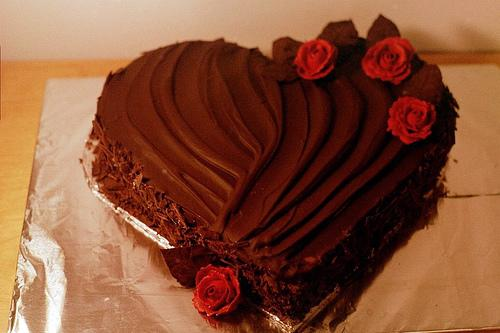Rose: (380, 91, 441, 154), (356, 33, 422, 87), (190, 262, 250, 320), (294, 30, 341, 88)
